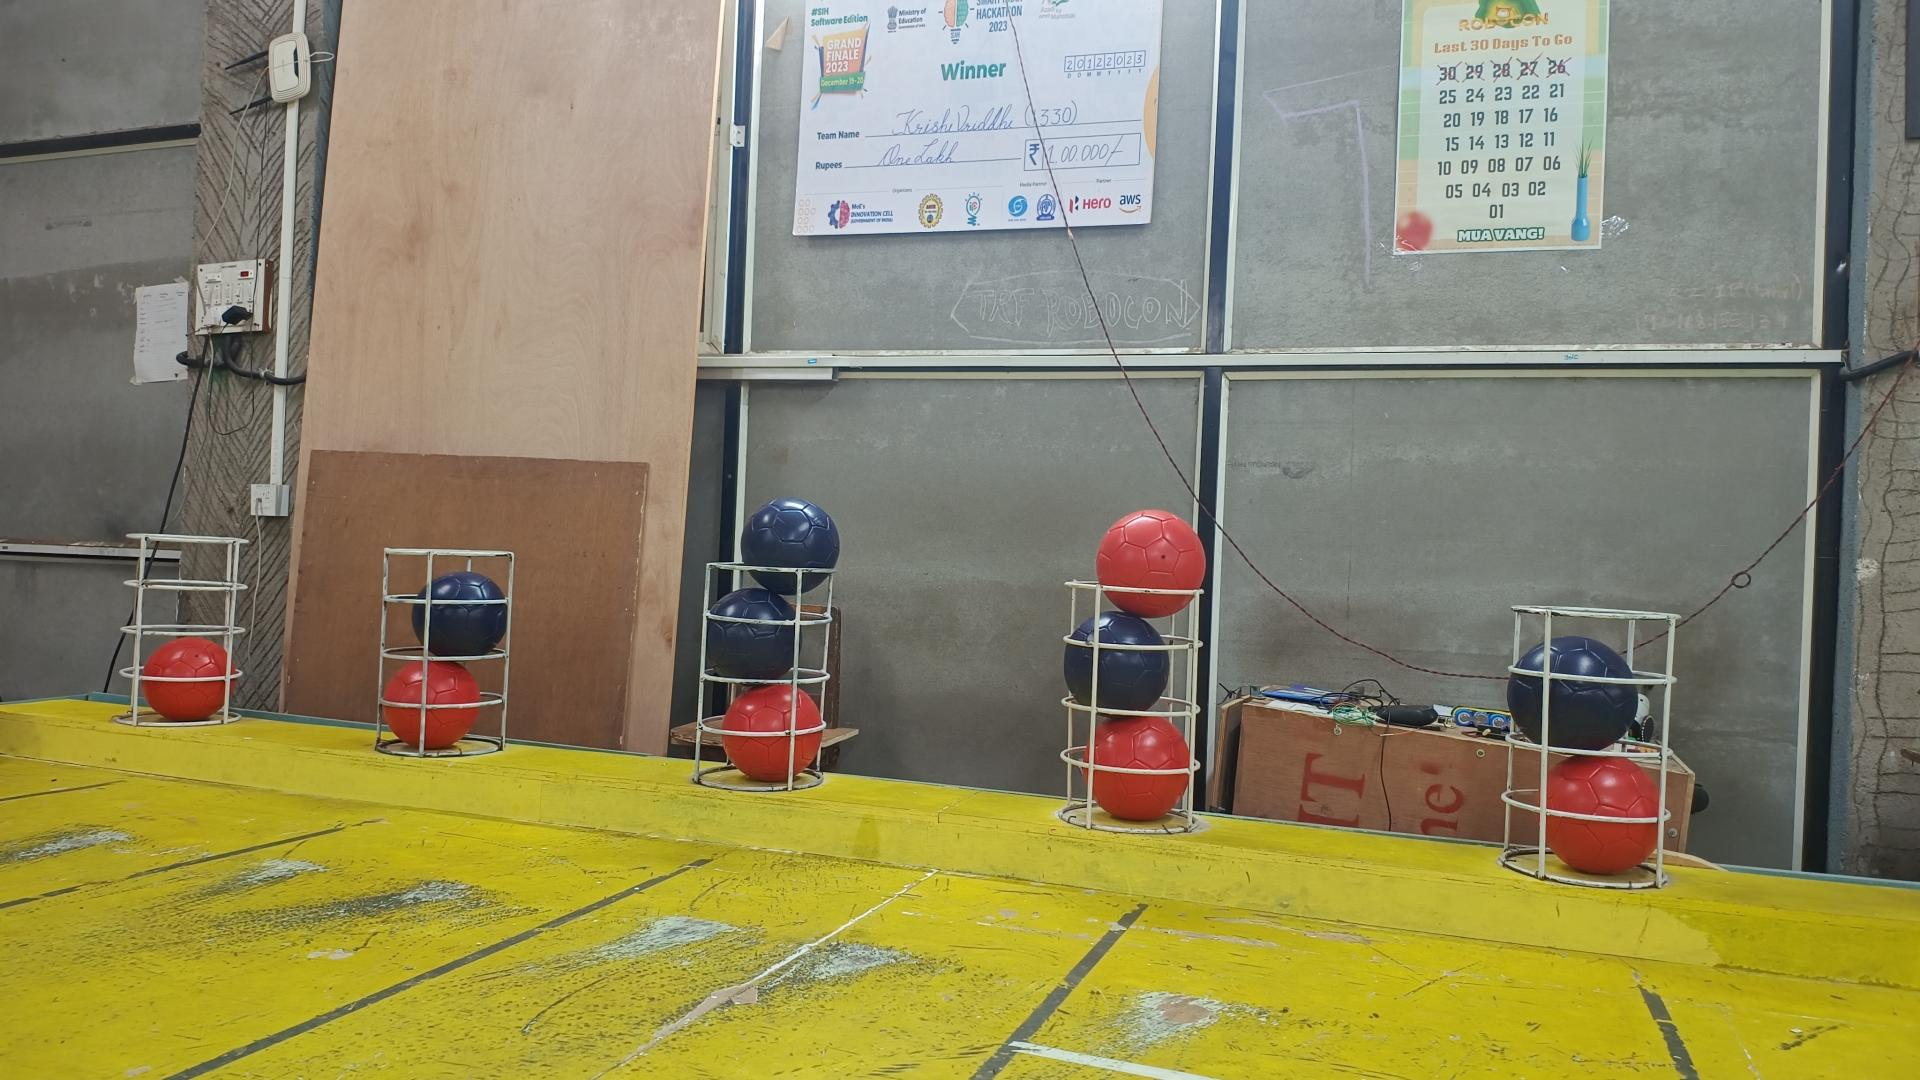dhoka: (1507, 634, 1639, 750), (1065, 612, 1170, 712), (738, 498, 840, 596), (705, 585, 799, 679), (413, 570, 510, 657)
laale: (1530, 754, 1662, 874), (1095, 510, 1208, 618), (1080, 716, 1192, 822), (724, 683, 825, 783), (382, 661, 480, 750), (142, 637, 240, 720)
